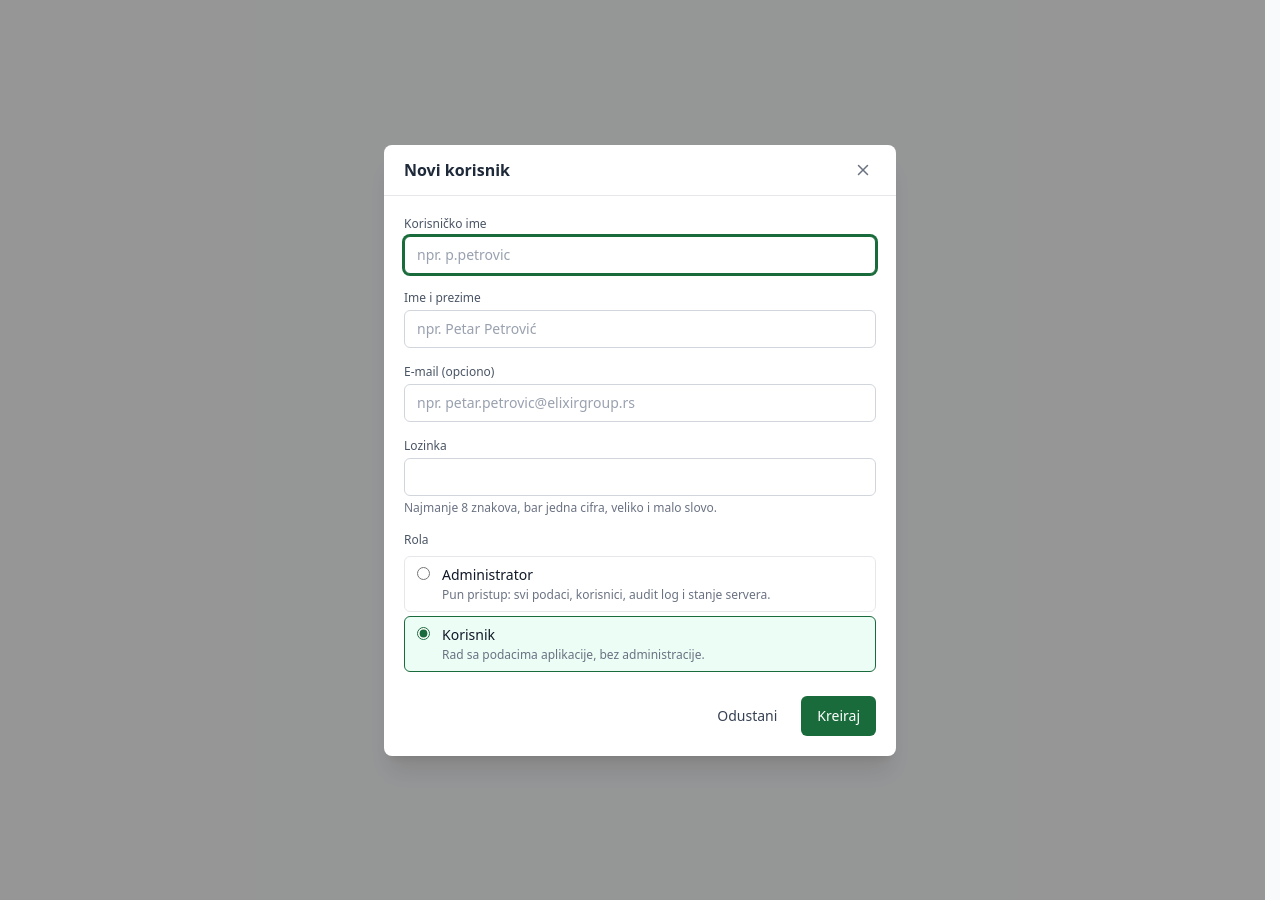
KorisnikForm › odbija neispravan e-mail
Type "petar" into the field labelled "Korisničko ime". click: (640, 254)
box: [404,236,876,274]
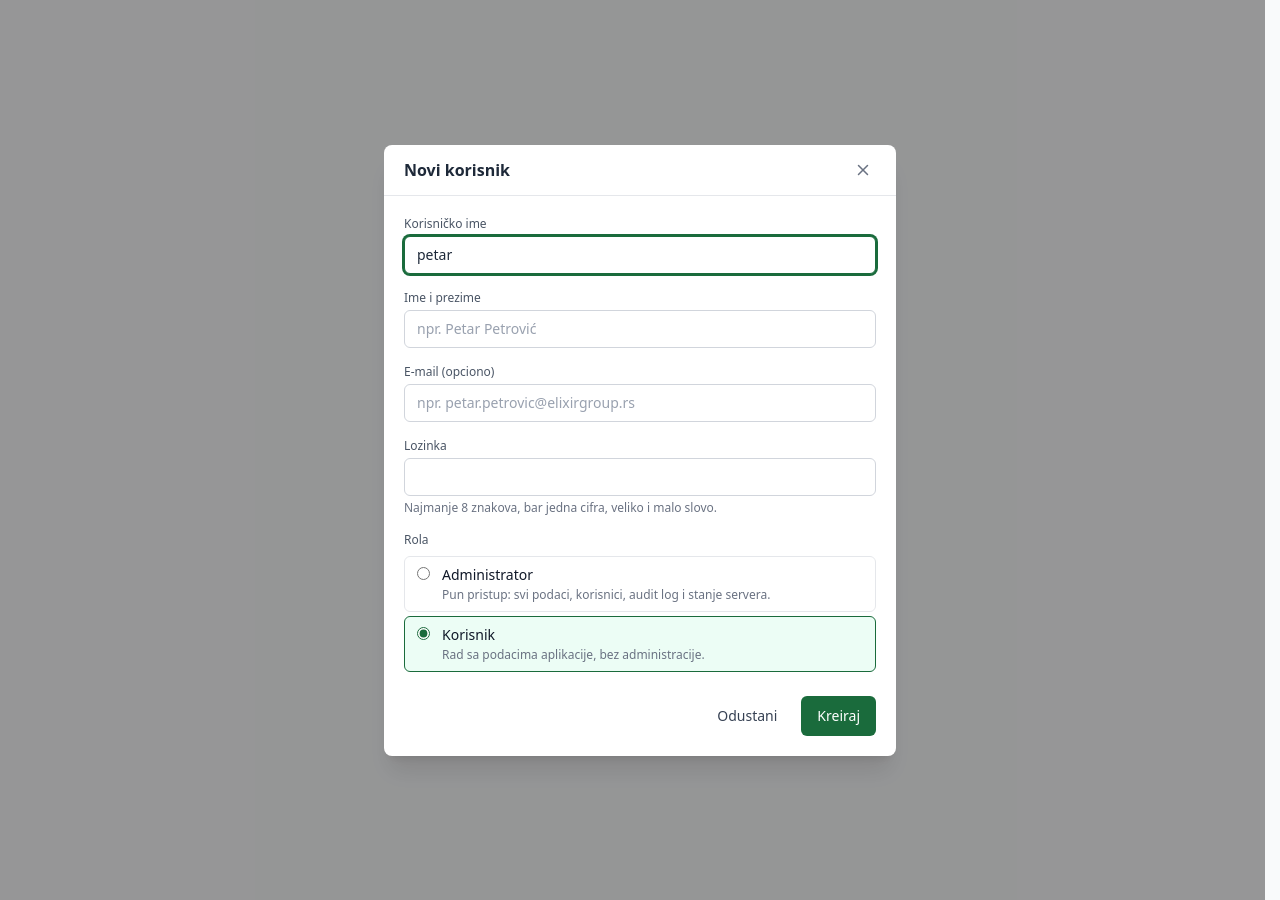
Type "Petar" into the field labelled "Ime i prezime". click: (640, 328)
box: [404,310,876,348]
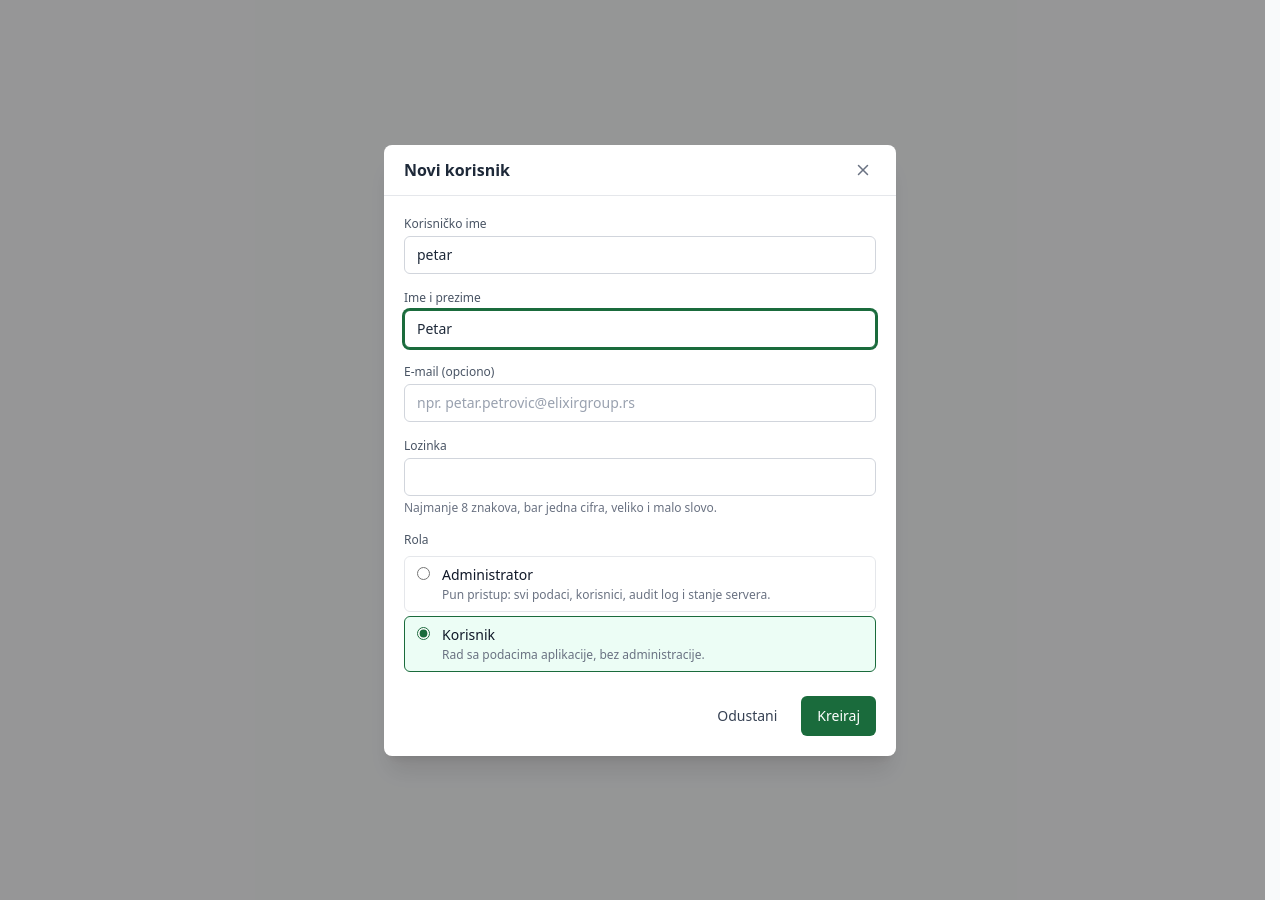
Type "nije-mejl" into the field labelled "E-mail (opciono)". click: (640, 402)
box: [404,384,876,422]
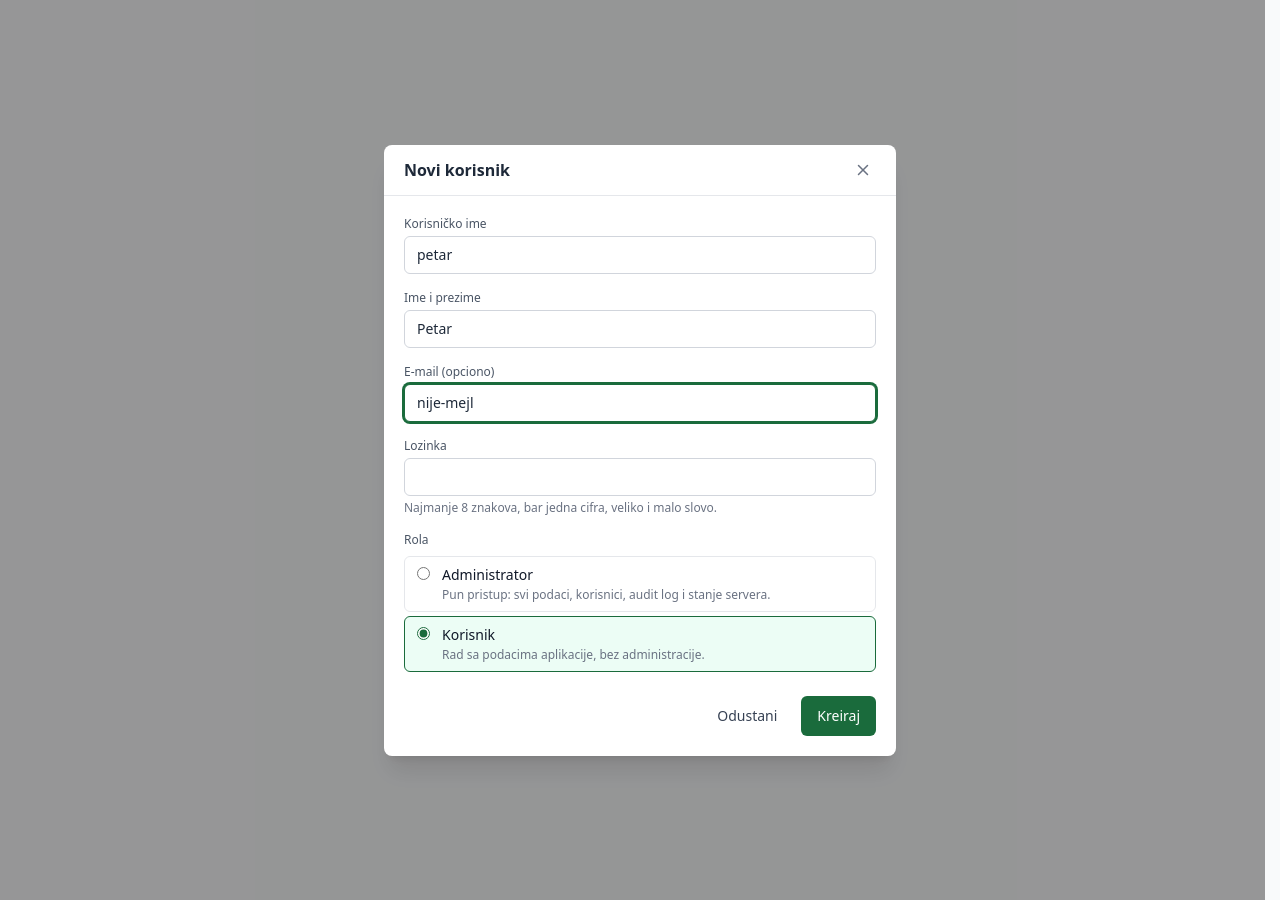
Type "Lozinka12" into the password field labelled "Lozinka". click: (640, 476)
box: [404,458,876,496]
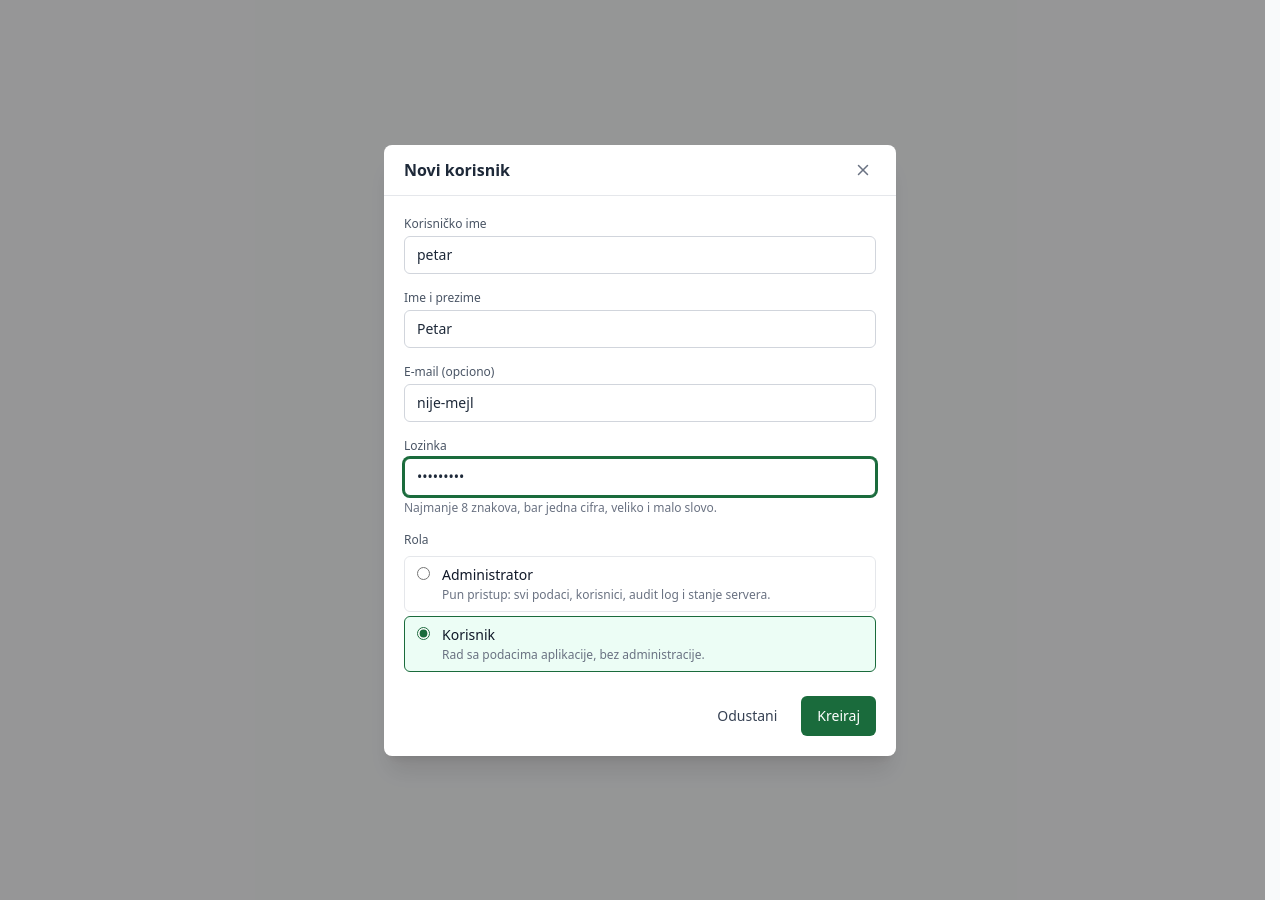
Click the button "Kreiraj". click: (839, 716)
box: [801,696,876,736]
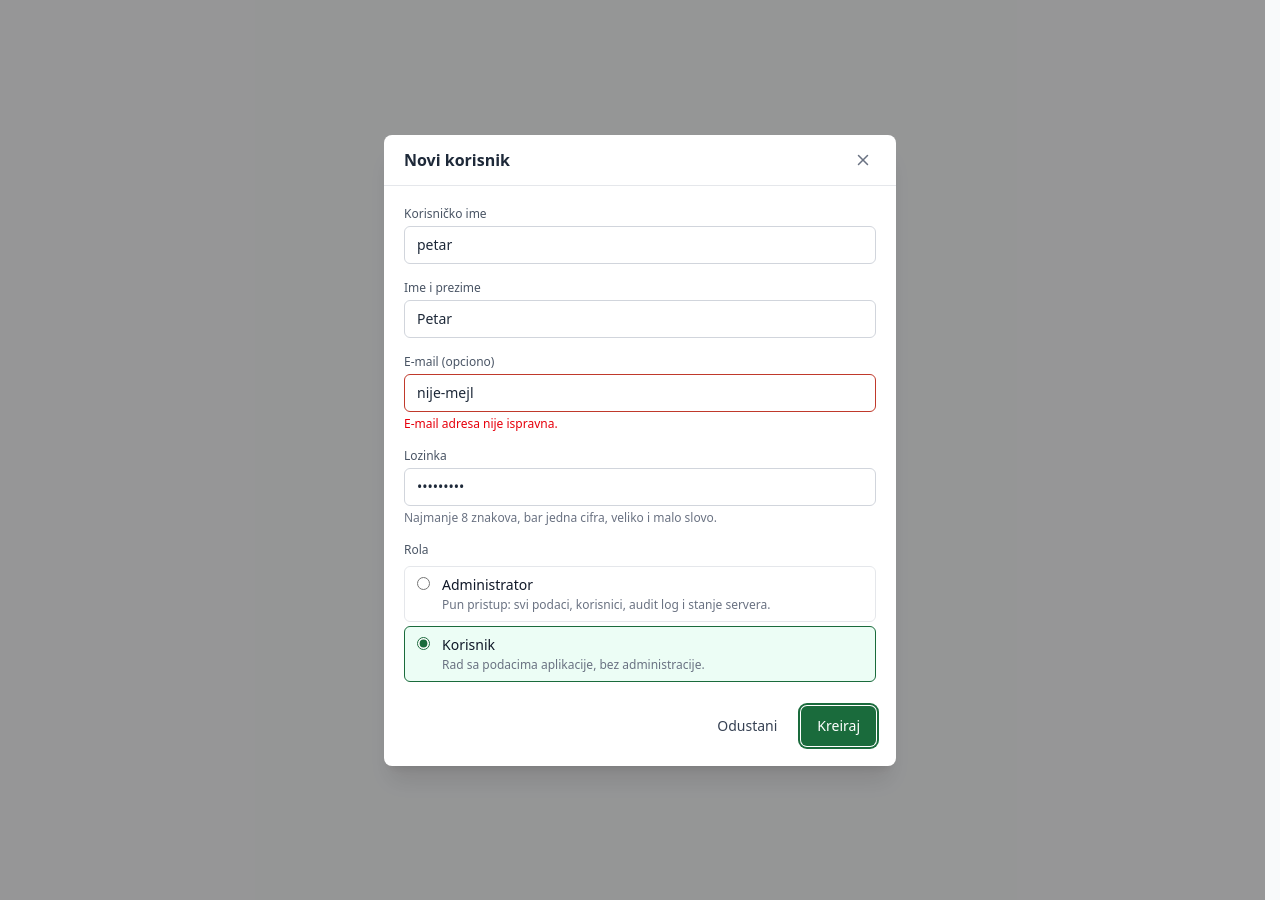
expect the text "E-mail adresa nije ispravna." is shown: met, box [404,414,558,432]
